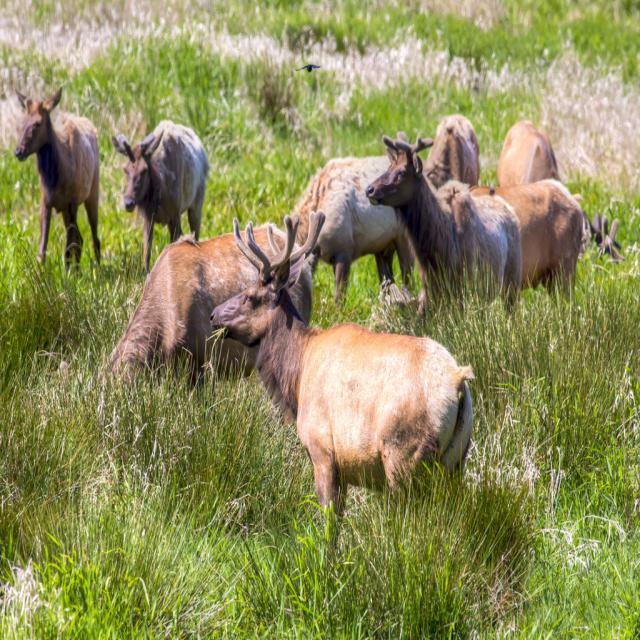Deer: (207, 205, 477, 567), (100, 221, 318, 404), (366, 132, 527, 320), (285, 146, 426, 301), (14, 84, 100, 280), (110, 119, 209, 277), (458, 181, 590, 295), (497, 122, 562, 196), (426, 110, 481, 191)
